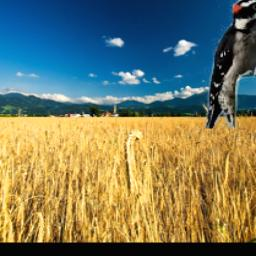Woodpecker: (205, 0, 256, 130)
